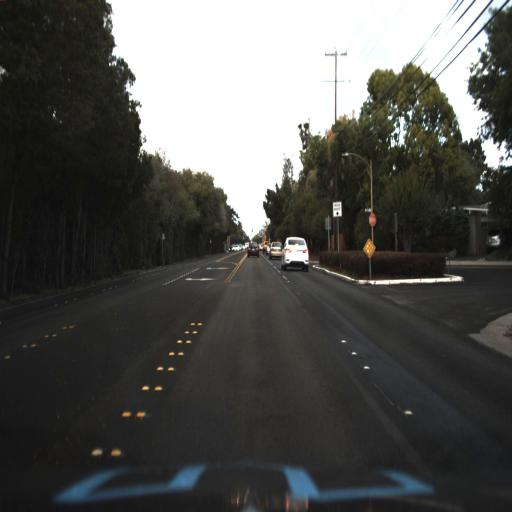car: (279, 234, 312, 274), (267, 237, 286, 261), (246, 237, 262, 260)
